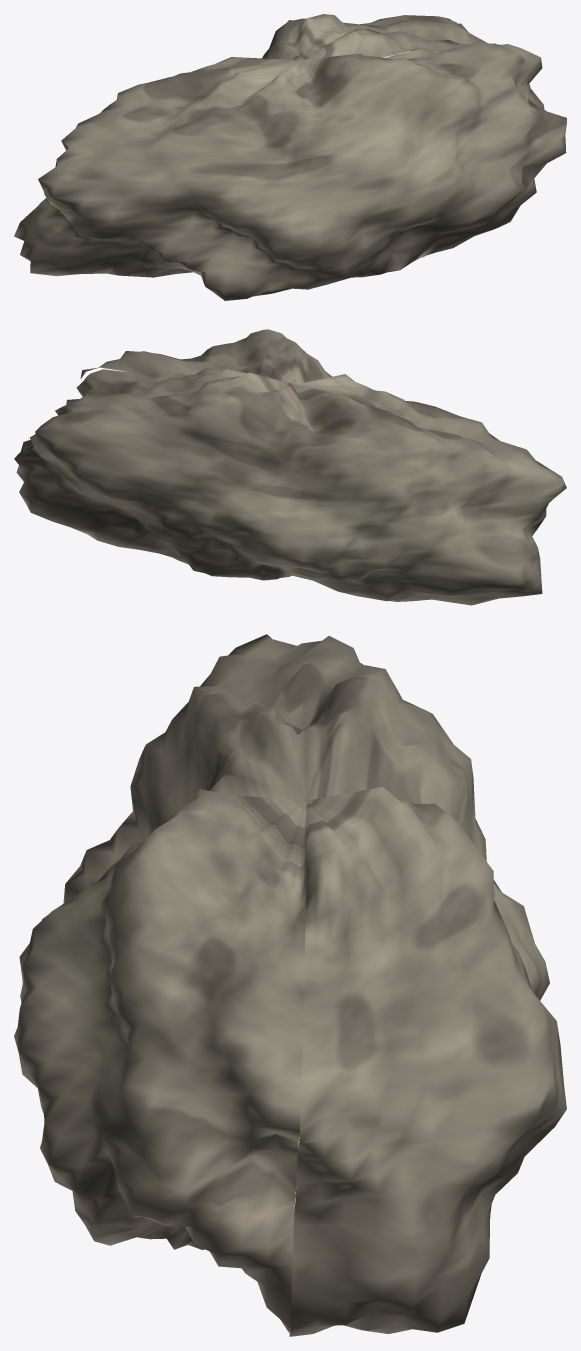
File: reef_rock_v2_c.glb
3 views of the same model, one above another, from view 1: azimuth 30°, elevation 25°; view 2: azimuth 150°, elevation 25°; view 3: azimuth 270°, elevation 25° (orthographic). The views are drawn at different scales.
Parts seen in each view (by area): view 1: world; view 2: world; view 3: world.
Part boxes in pixels (bbox=[...]): world: bbox=[14, 14, 566, 300]; world: bbox=[14, 329, 566, 605]; world: bbox=[14, 634, 566, 1336].
Size of the model in its own units: 3.37 by 1.17 by 1.59.
Materials: 1 (1 with a texture image).
